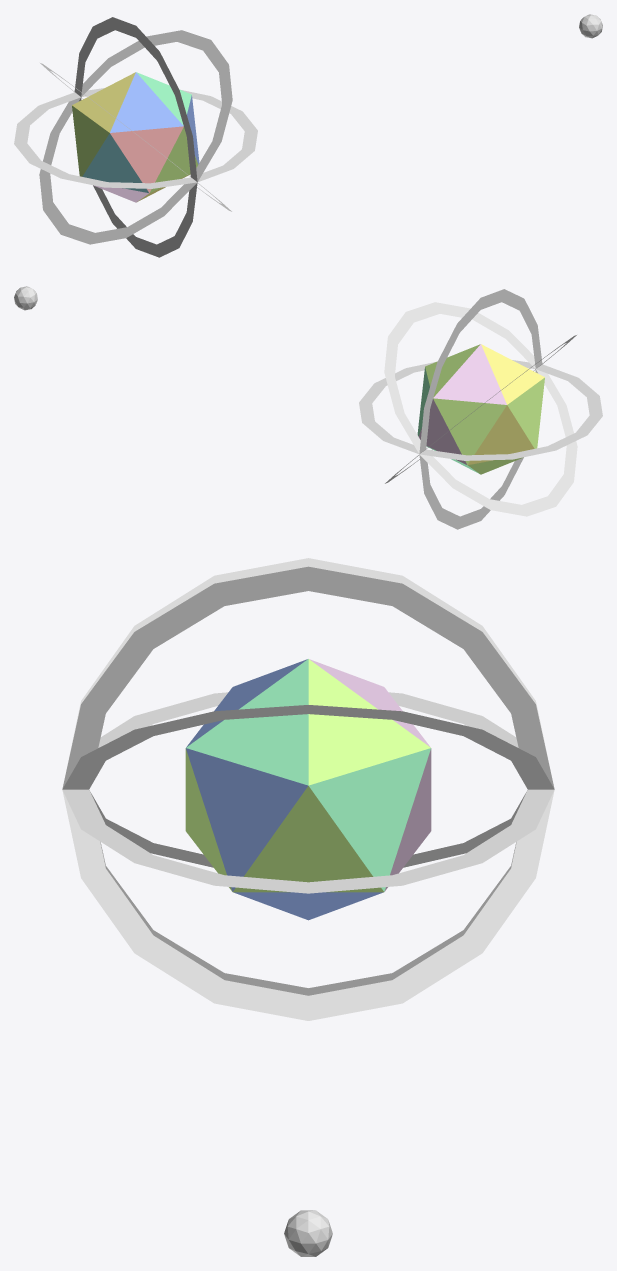
The model's file is goal(withsfx).fbx.
The picture shows the model from 3 angles, top to bottom: view 1: azimuth 30°, elevation 25°; view 2: azimuth 150°, elevation 25°; view 3: azimuth 270°, elevation 25°; orthographic projection. The views are drawn at different scales.
Parts seen in each view (by area): view 1: Icosphere, Circle.002, Circle.003, Circle.004, Icosphere.Particle; view 2: Icosphere, Circle.002, Circle.003, Circle.004, Icosphere.Particle; view 3: Icosphere, Circle.001, Circle.003, Circle.004, Circle.002, Icosphere.Particle.
Part boxes in pixels (x1,y1,x2,y2): Icosphere: (72, 72, 199, 202); Circle.002: (39, 30, 232, 244); Circle.003: (74, 17, 197, 257); Circle.004: (14, 88, 257, 188); Icosphere.Particle: (579, 14, 602, 38); Icosphere: (417, 344, 544, 474); Circle.002: (384, 302, 577, 516); Circle.003: (419, 289, 542, 529); Circle.004: (359, 360, 602, 460); Icosphere.Particle: (14, 286, 37, 310); Icosphere: (185, 659, 431, 920); Circle.001: (62, 558, 554, 1020); Circle.003: (62, 566, 554, 995); Circle.004: (62, 692, 554, 893); Circle.002: (62, 705, 554, 867); Icosphere.Particle: (284, 1210, 332, 1256).
Size of the model in its own units: 5392 by 2011 by 2011.
